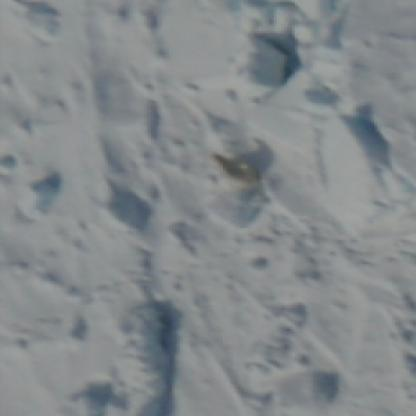polar-bear: (209, 155, 261, 193)
